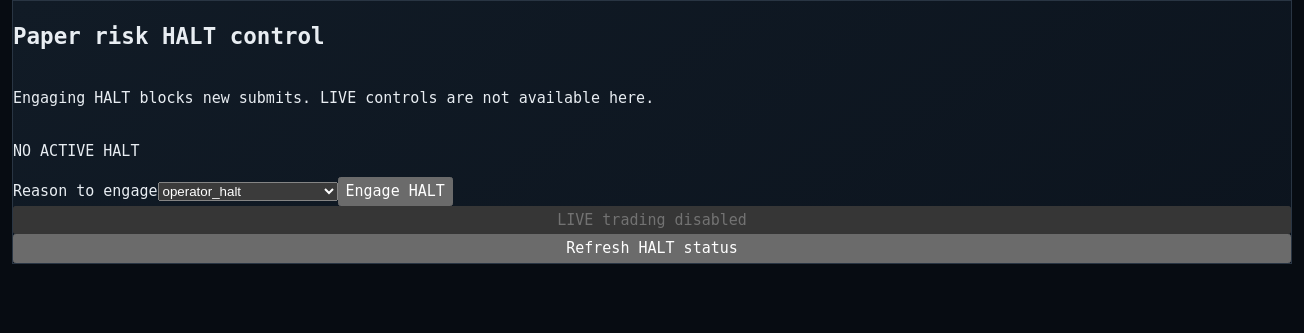
Test case: PAPER-HALT-OPERATOR-UI-001 independent acceptance › reports timeout, re-fetches, and never labels an unverified result as no active HALT
What coordinates should you click on to do the following:
click the button "Engage HALT"
I would click on:
 (395, 191)
Its box is [338,177,453,206].
Wait 5000 ms
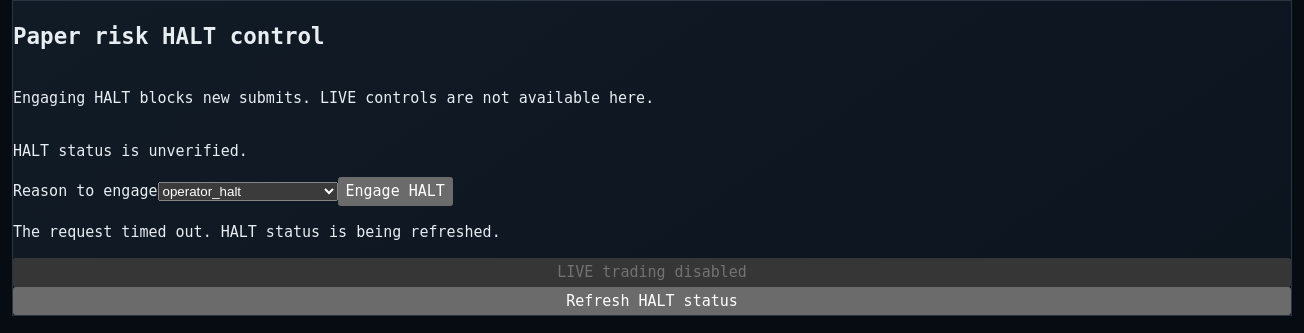
Result: the message "The request timed out. HALT status is being refreshed." is shown at [13,223,501,241]
Result: the text "HALT status is unverified." is shown at [13,142,248,160]
Result: the text "NO ACTIVE HALT" is gone
